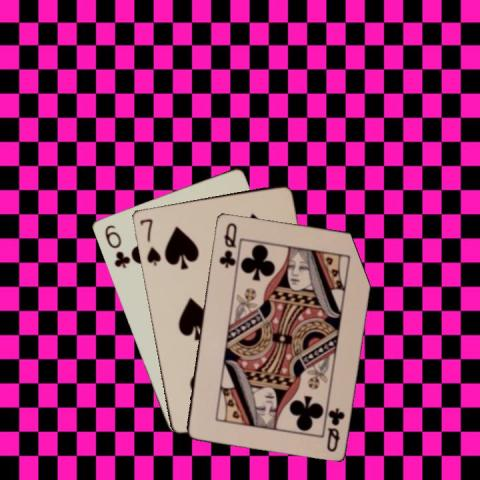6c: (101, 222, 131, 270)
7s: (137, 216, 162, 268)
Qc: (323, 405, 346, 453), (216, 219, 238, 269)
